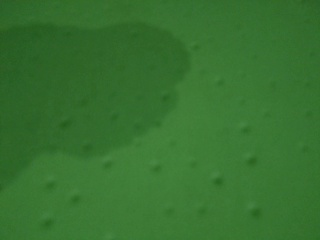Water_detected: (0, 41, 191, 179)
